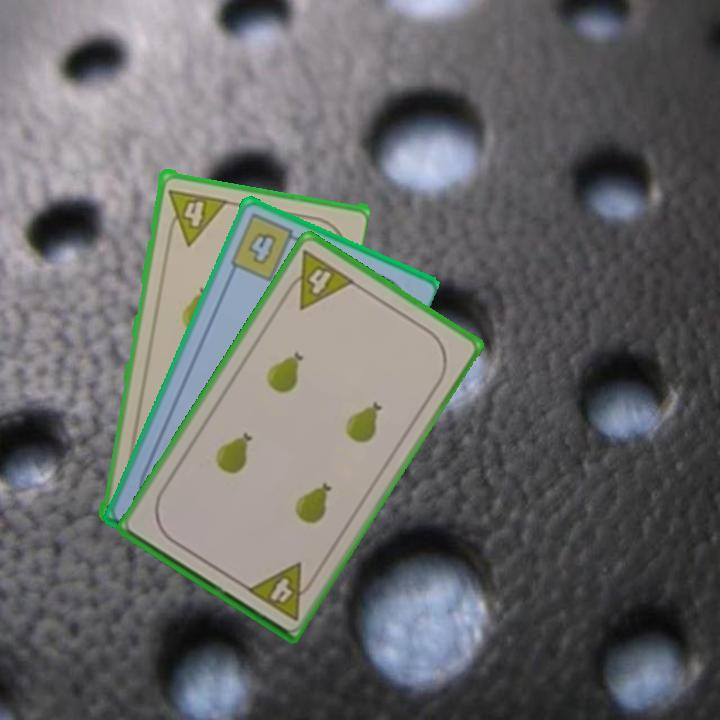4b: (225, 210, 305, 284)
4p: (278, 245, 358, 313), (243, 558, 320, 623), (163, 185, 229, 247)
